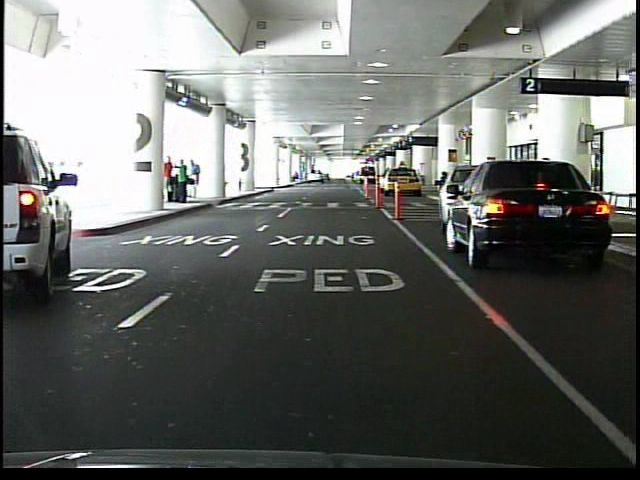person: (175, 160, 190, 205), (164, 155, 176, 205), (188, 159, 201, 200)
